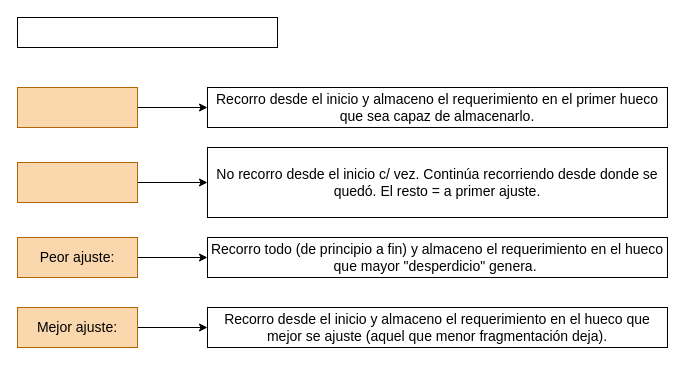
Image size: 685x365. Some labels were removed from this diagram. Here are the shapes that lost their labels. From the top down, the centre of each, then its label:
point (147, 32): Algoritmos de intercambio:
point (77, 107): Primer ajuste
point (77, 182): Siguiente ajuste:
